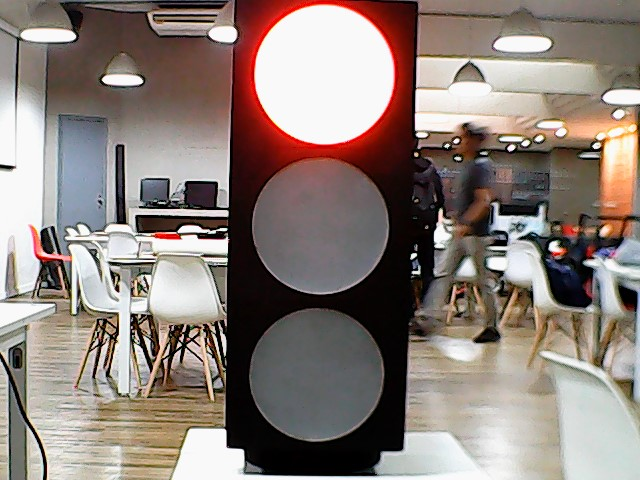vermelho: (227, 1, 422, 478)
